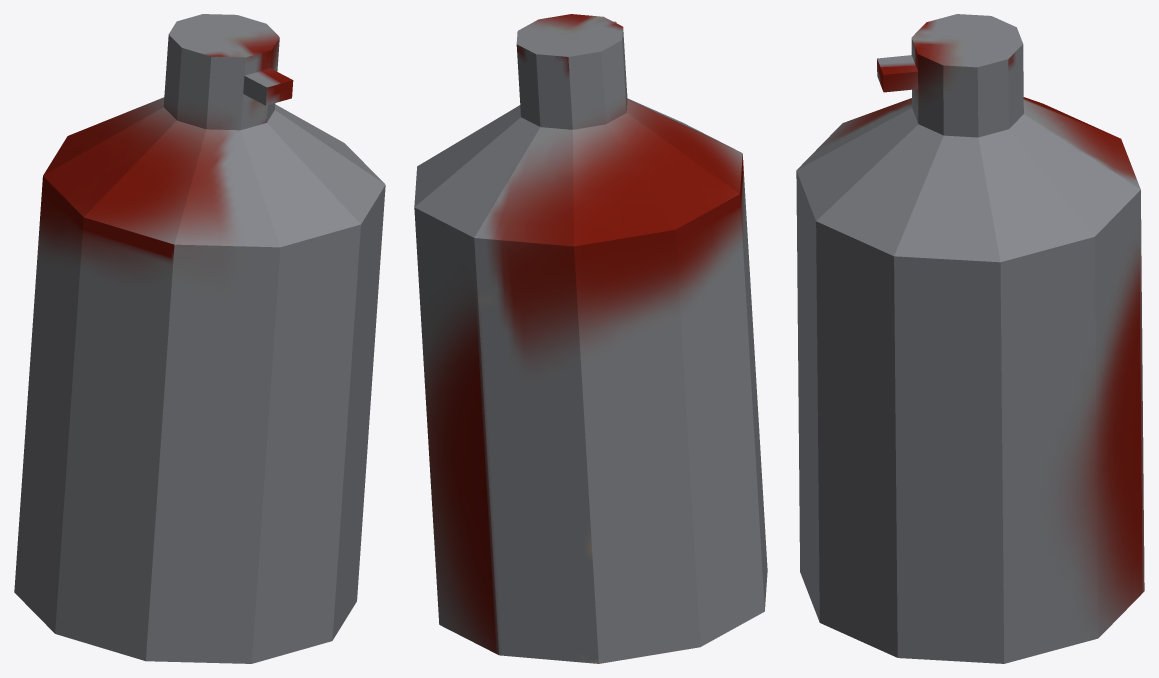
The model's file is lata.fbx.
The picture shows the model from 3 angles, left to right: view 1: azimuth 30°, elevation 25°; view 2: azimuth 150°, elevation 25°; view 3: azimuth 270°, elevation 25°; orthographic projection.
Visible parts, largest first — view 1: adolescente; view 2: adolescente; view 3: adolescente.
Boxes of the visible parts, left/top/right/bottom form: adolescente: left=14, top=14, right=385, bottom=663; adolescente: left=414, top=14, right=767, bottom=663; adolescente: left=796, top=14, right=1144, bottom=663.
Bounding box in the file's own units: 38.23 × 64.91 × 35.78.
1 material, 1 textured.
